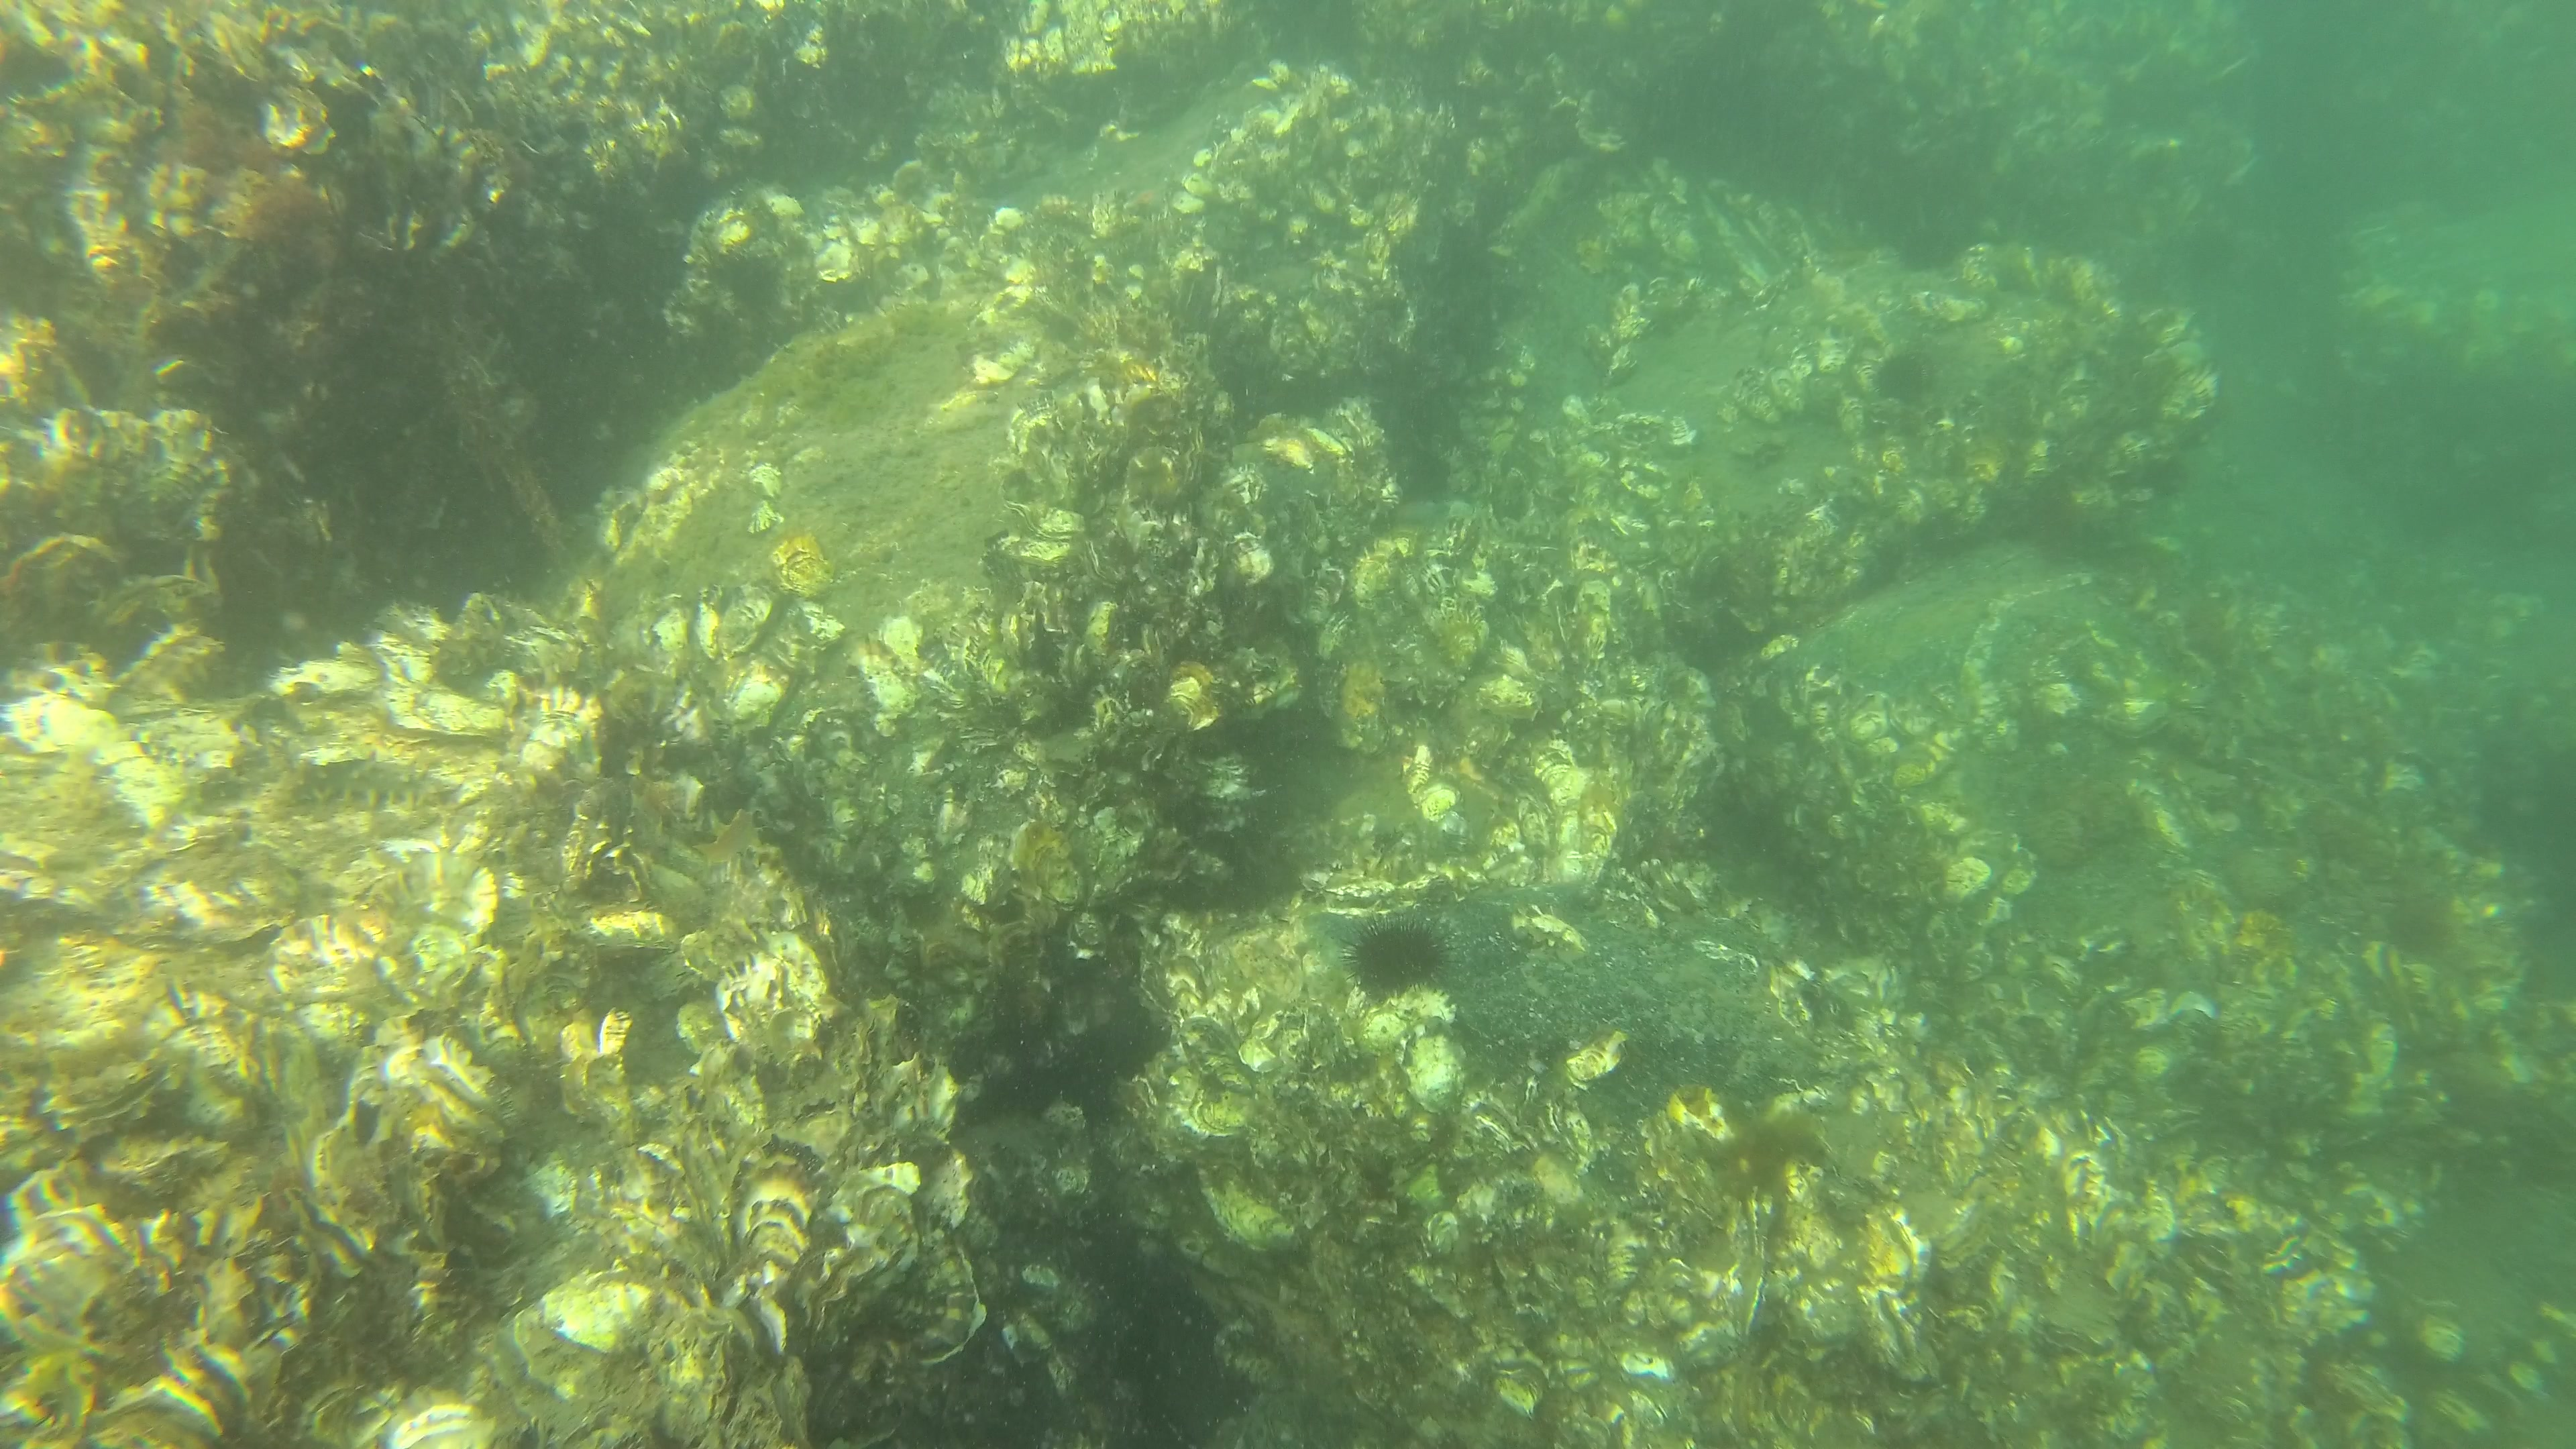echinus: (1332, 915, 1447, 998), (720, 251, 782, 315), (1872, 349, 1936, 410)
